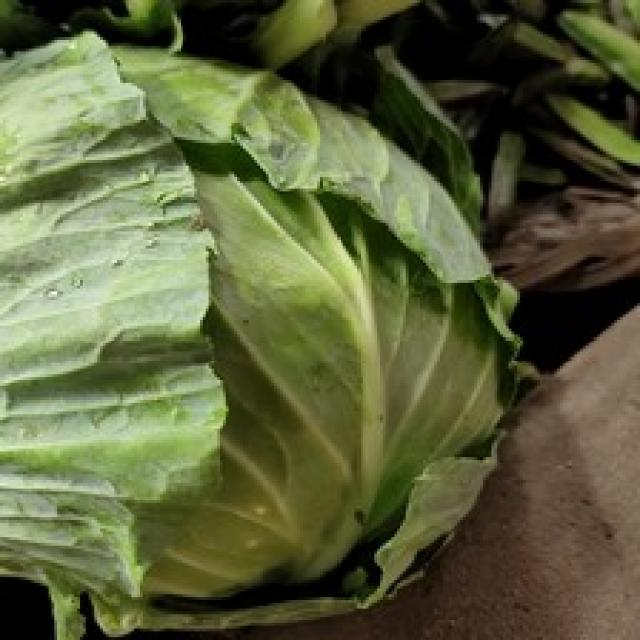Cabbage: (0, 23, 540, 637)
